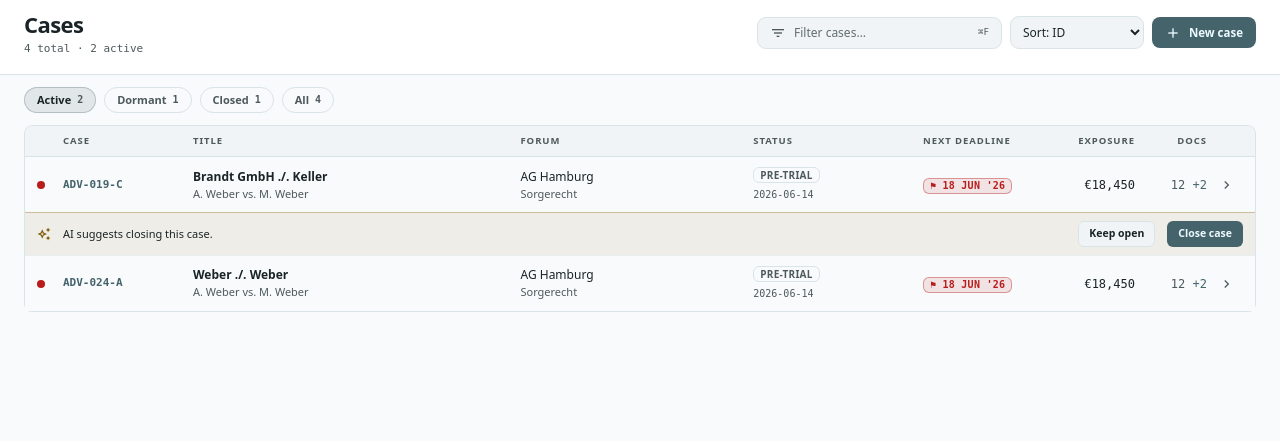
filters by status chip and by text
Expected: the text "4 total · 2 active" is shown, [24,41,143,58]
Expected: the number of list items is 2, [25,157,1255,256]; [25,256,1255,311]
Click the button "Dormant 1": [148, 100] box [104,86,192,113]
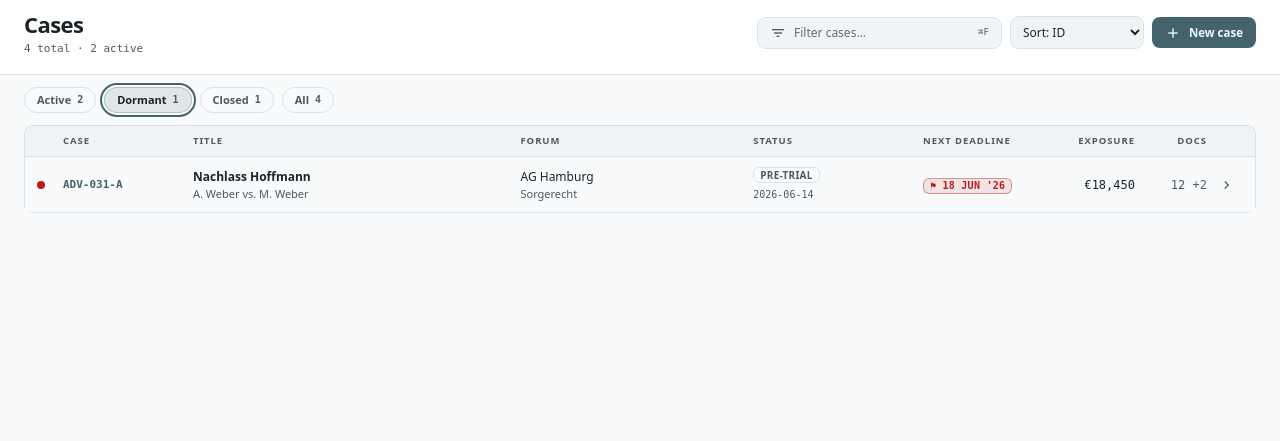
Expected: the text "Nachlass Hoffmann" is shown, [193,168,311,184]
Expected: the link "Weber ./. Weber" is gone
Click the button "All 4": [308, 100] box [282,86,334,113]
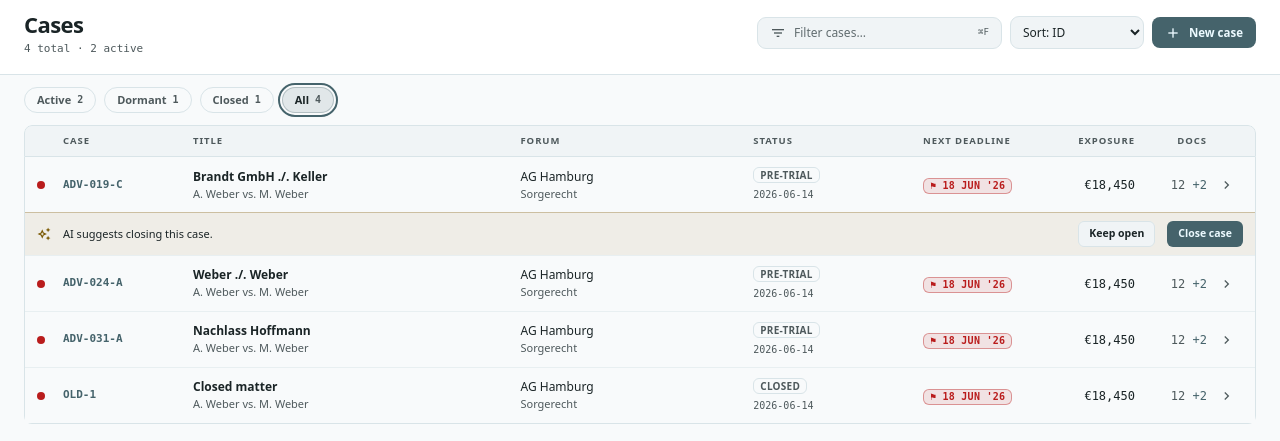
In the field named "Filter cases": [882, 33] box [794,24,970,42], type "brandt"
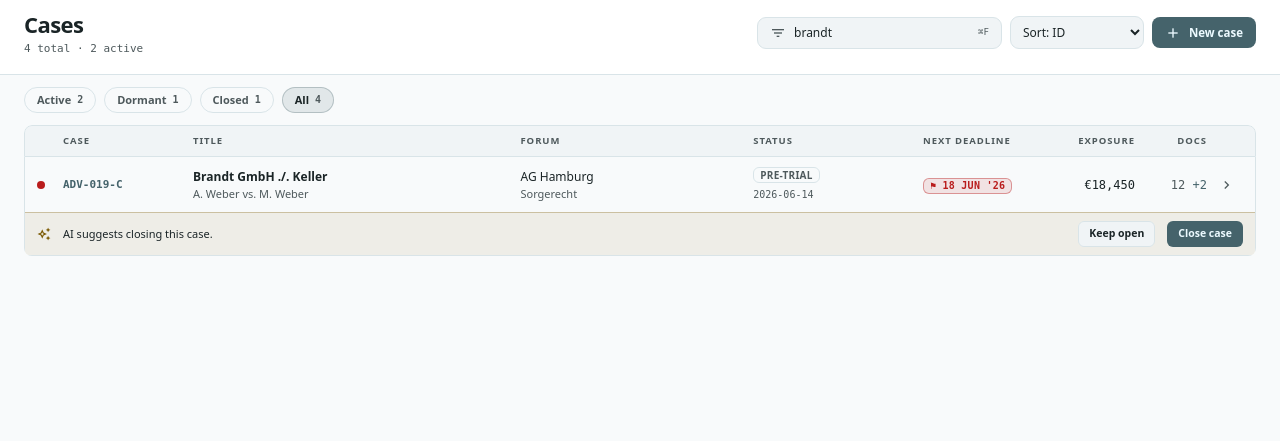
Expected: the text "Brandt GmbH ./. Keller" is shown, [193,168,328,184]
Expected: the number of list items is 1, [25,157,1255,255]
